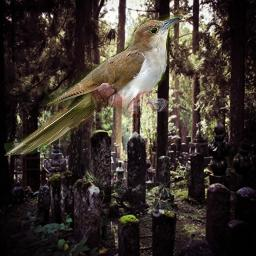Cuckoo: (4, 14, 182, 156)
